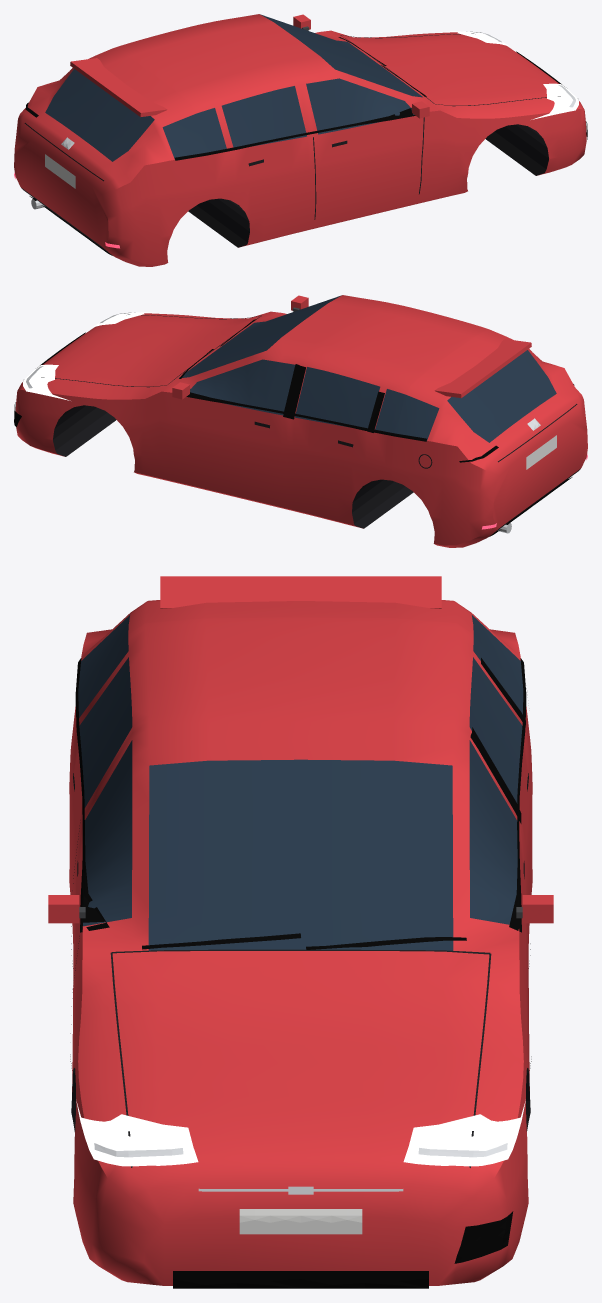
Rendered from ford-focus-mk4.glb.
3 renders of one model, top to bottom at view 1: azimuth 30°, elevation 25°; view 2: azimuth 150°, elevation 25°; view 3: azimuth 270°, elevation 25°, orthographic. The views are drawn at different scales.
Visible parts, largest first — view 1: ford-focus-mk4; view 2: ford-focus-mk4; view 3: ford-focus-mk4.
Part boxes in pixels (left/top/right/bottom): ford-focus-mk4: left=14, top=14, right=587, bottom=266; ford-focus-mk4: left=14, top=295, right=587, bottom=547; ford-focus-mk4: left=48, top=576, right=553, bottom=1288.
Bounding box in the file's own units: 4.4 × 1.31 × 1.97.
